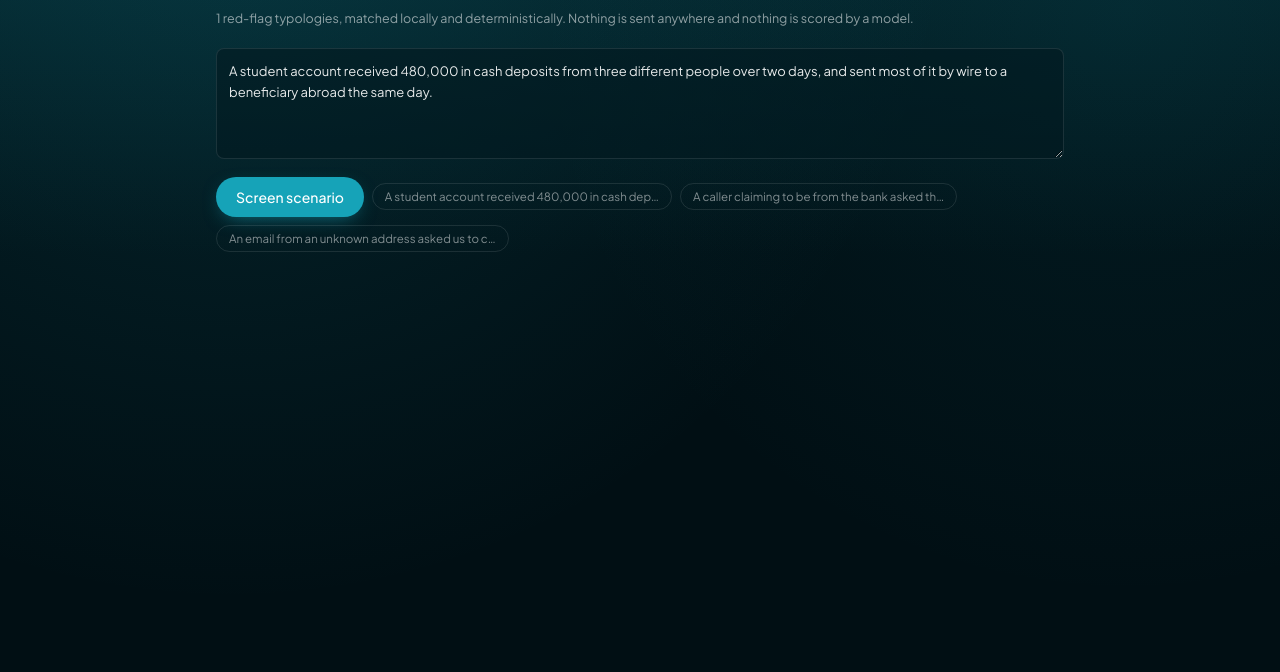
Test: FraudRisk › names the coverage gap instead of implying full coverage
Replace the text in the text box named "scenario" with "mule". click: [640, 104]
box: [216,48,1064,159]
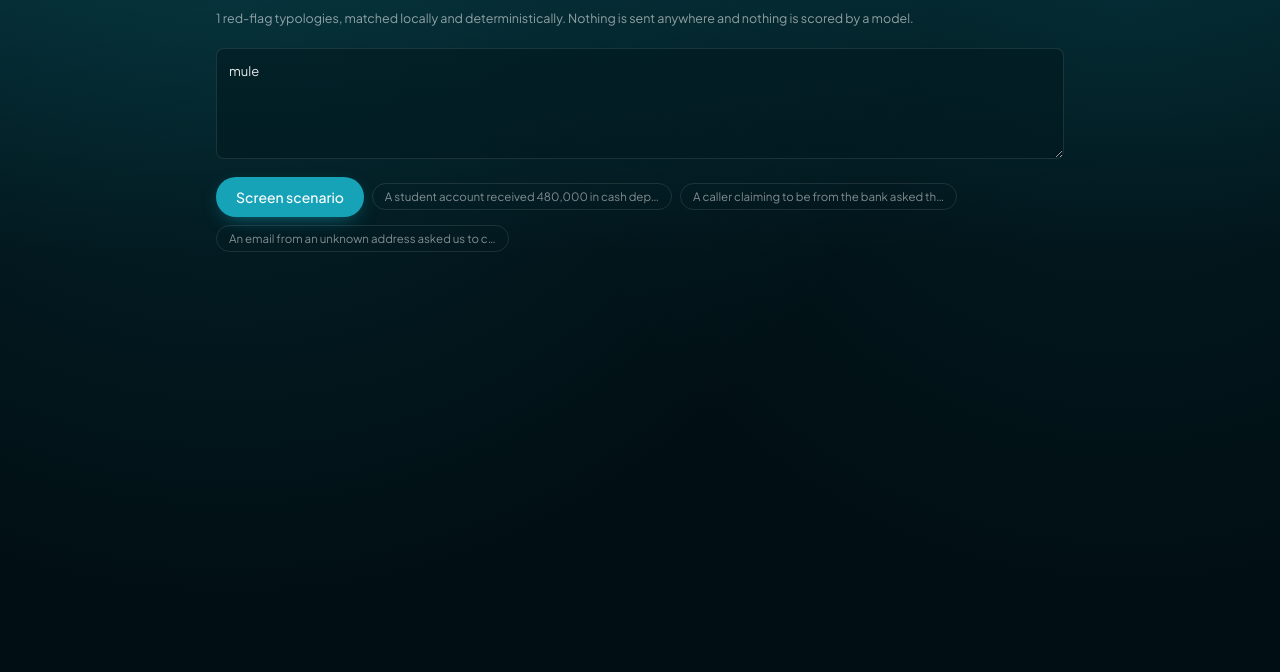
Click the button "Screen scenario". click: [290, 197]
box: [216,177,364,217]
(page scrolled)
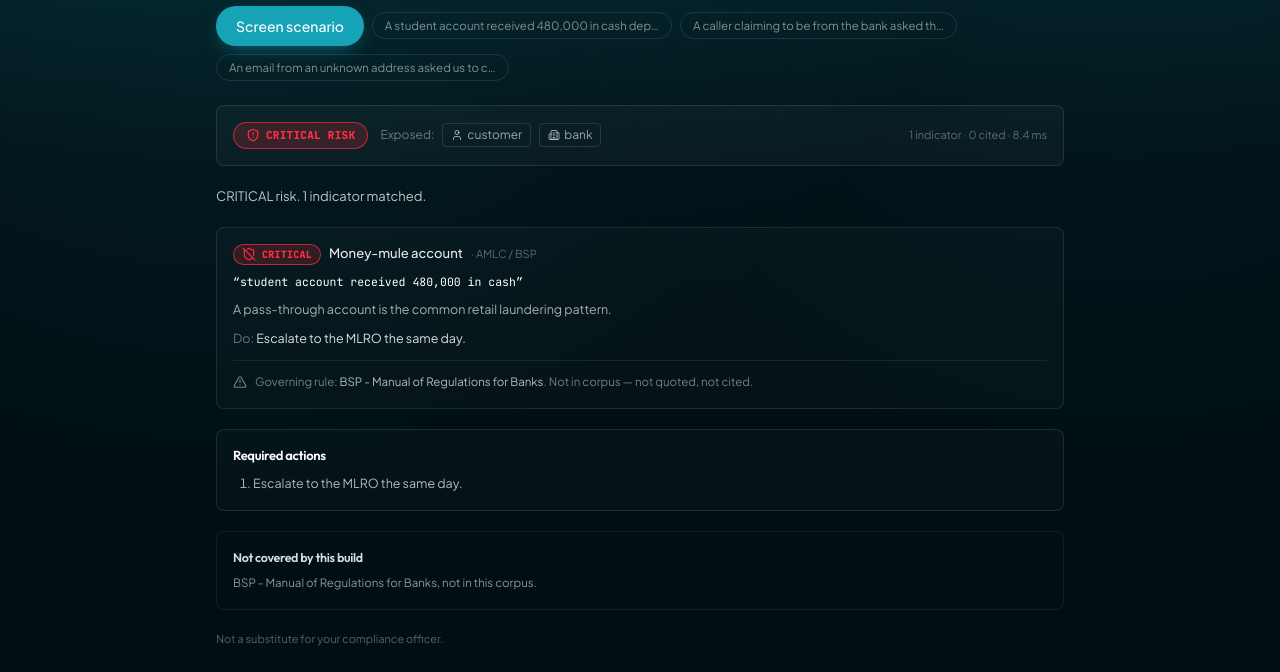
Expected: the text "CRITICAL risk" is shown, [266,127,355,144]
Expected: the list item "BSP - Manual of Regulations for Banks, not in this corpus." is shown, [233,575,537,590]
